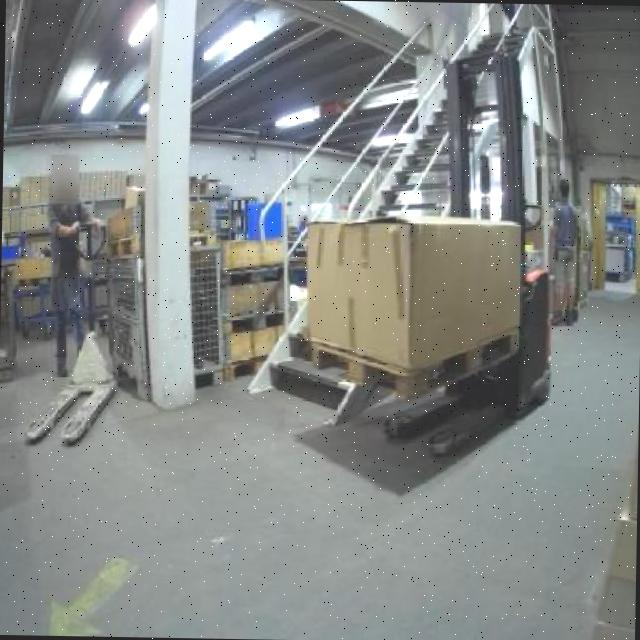pallet: (299, 312, 529, 406), (216, 252, 292, 296)
